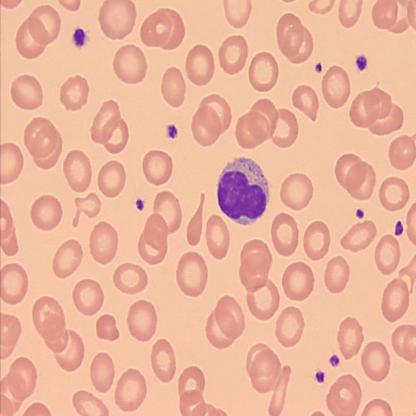Lymphocyte: (216, 156, 269, 224)
